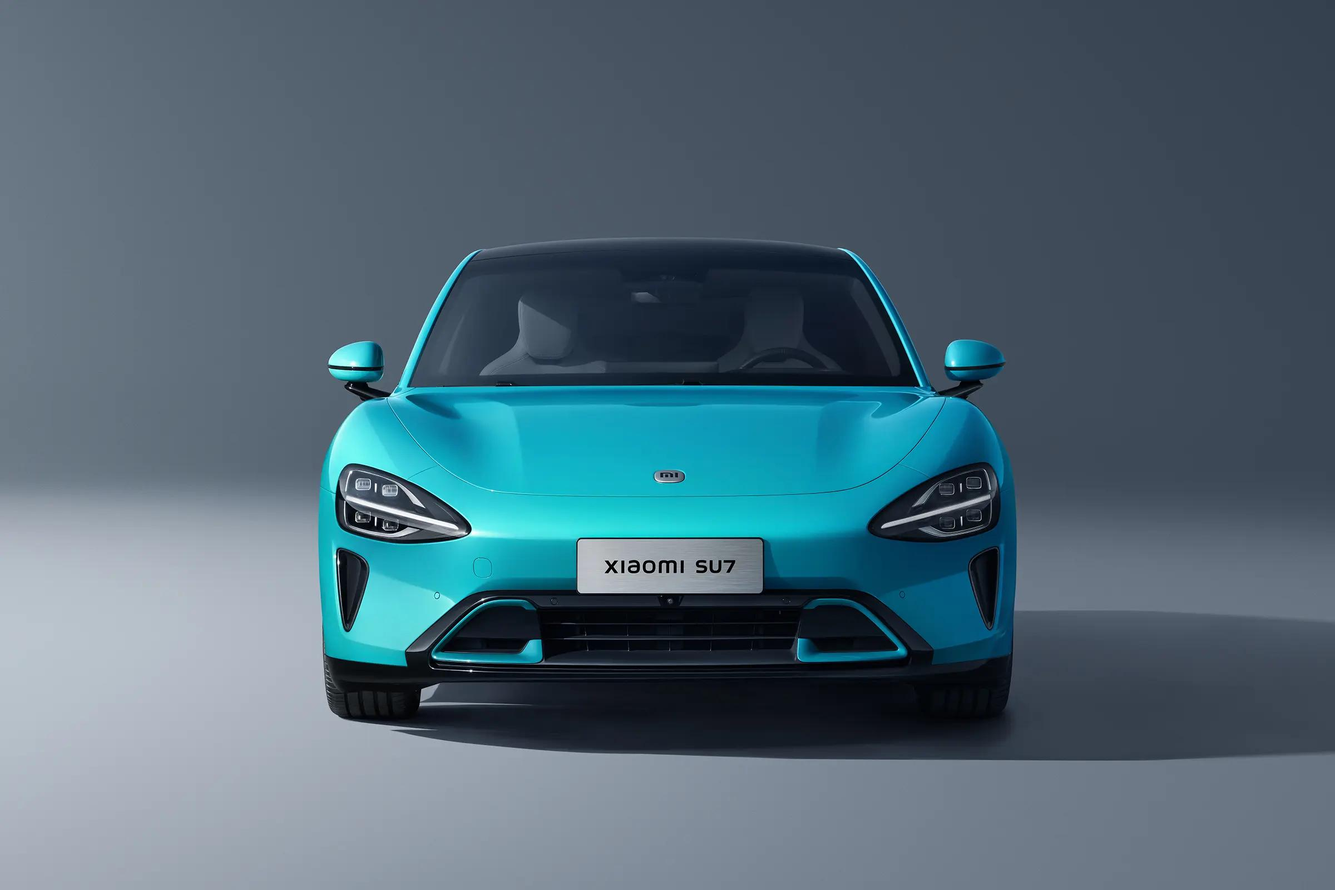XIAOMI: (654, 469, 685, 483)
